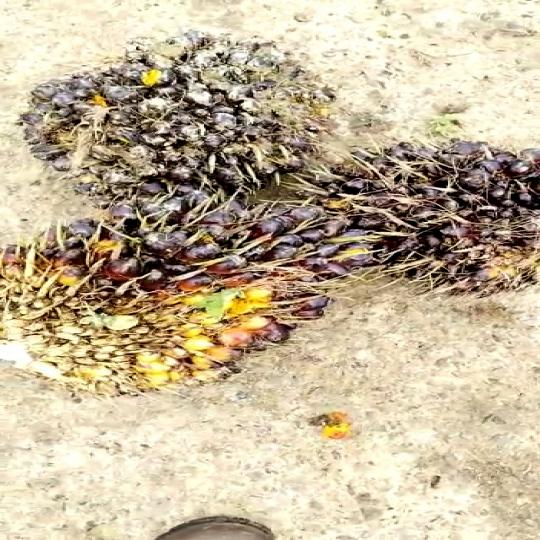mentah: (0, 194, 359, 404), (19, 26, 338, 204), (313, 122, 540, 300)
